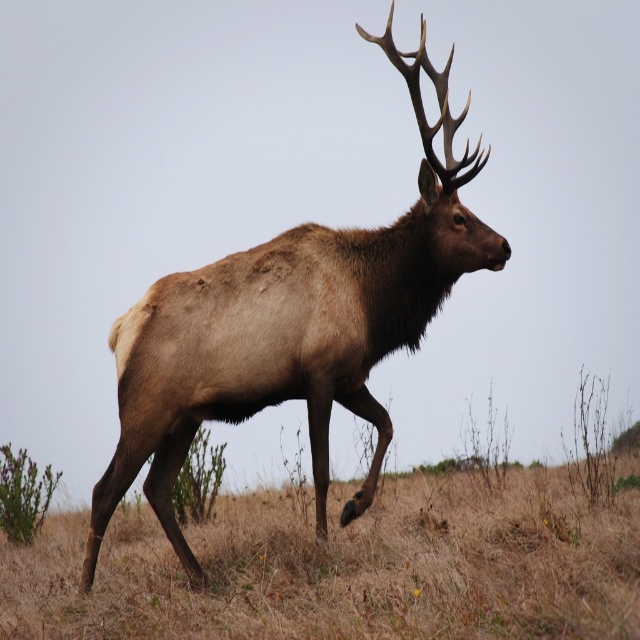Deer: (75, 0, 512, 598)
